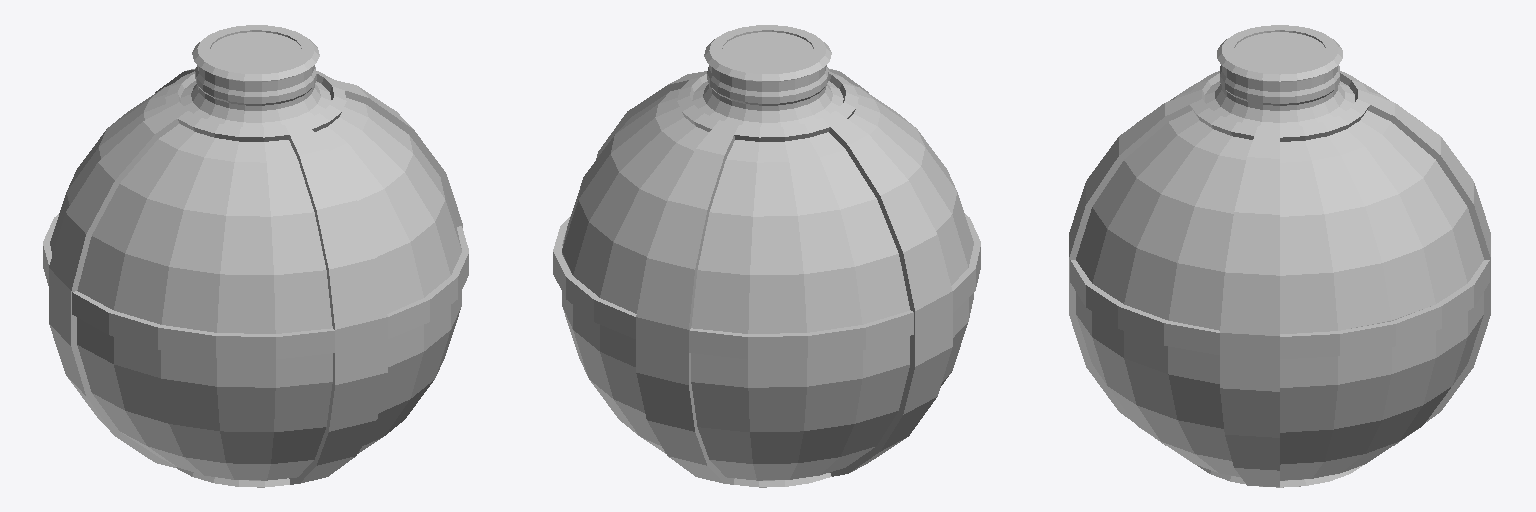
File: potion.obj
The picture shows the model from 3 angles: view 1: azimuth 30°, elevation 25°; view 2: azimuth 150°, elevation 25°; view 3: azimuth 270°, elevation 25°; orthographic projection.
Visible parts, largest first — view 1: potion_Mesh; view 2: potion_Mesh; view 3: potion_Mesh.
Part boxes in pixels (left/top/right/bottom): potion_Mesh: left=43, top=25, right=468, bottom=487; potion_Mesh: left=553, top=25, right=980, bottom=487; potion_Mesh: left=1069, top=25, right=1490, bottom=487.
Bounding box in the file's own units: 2.04 × 2.18 × 2.02.